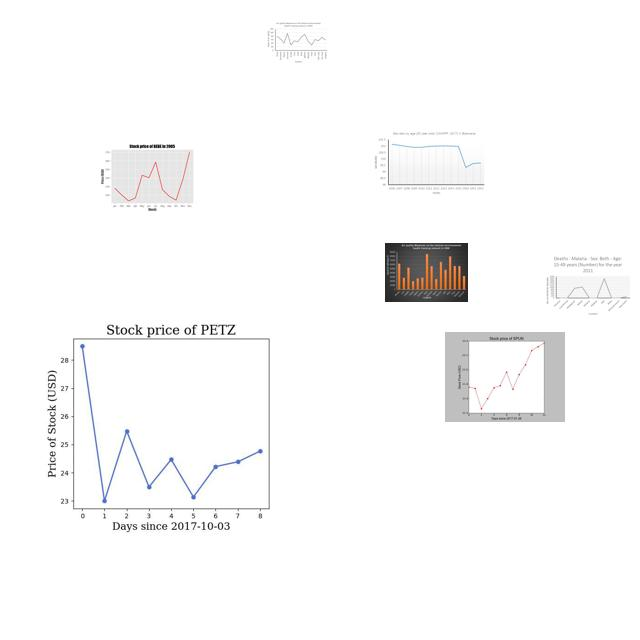Graph: (20, 312, 315, 533), (445, 332, 565, 422), (98, 136, 204, 216), (372, 129, 486, 197), (544, 255, 631, 317), (385, 243, 468, 302), (266, 21, 328, 64)
